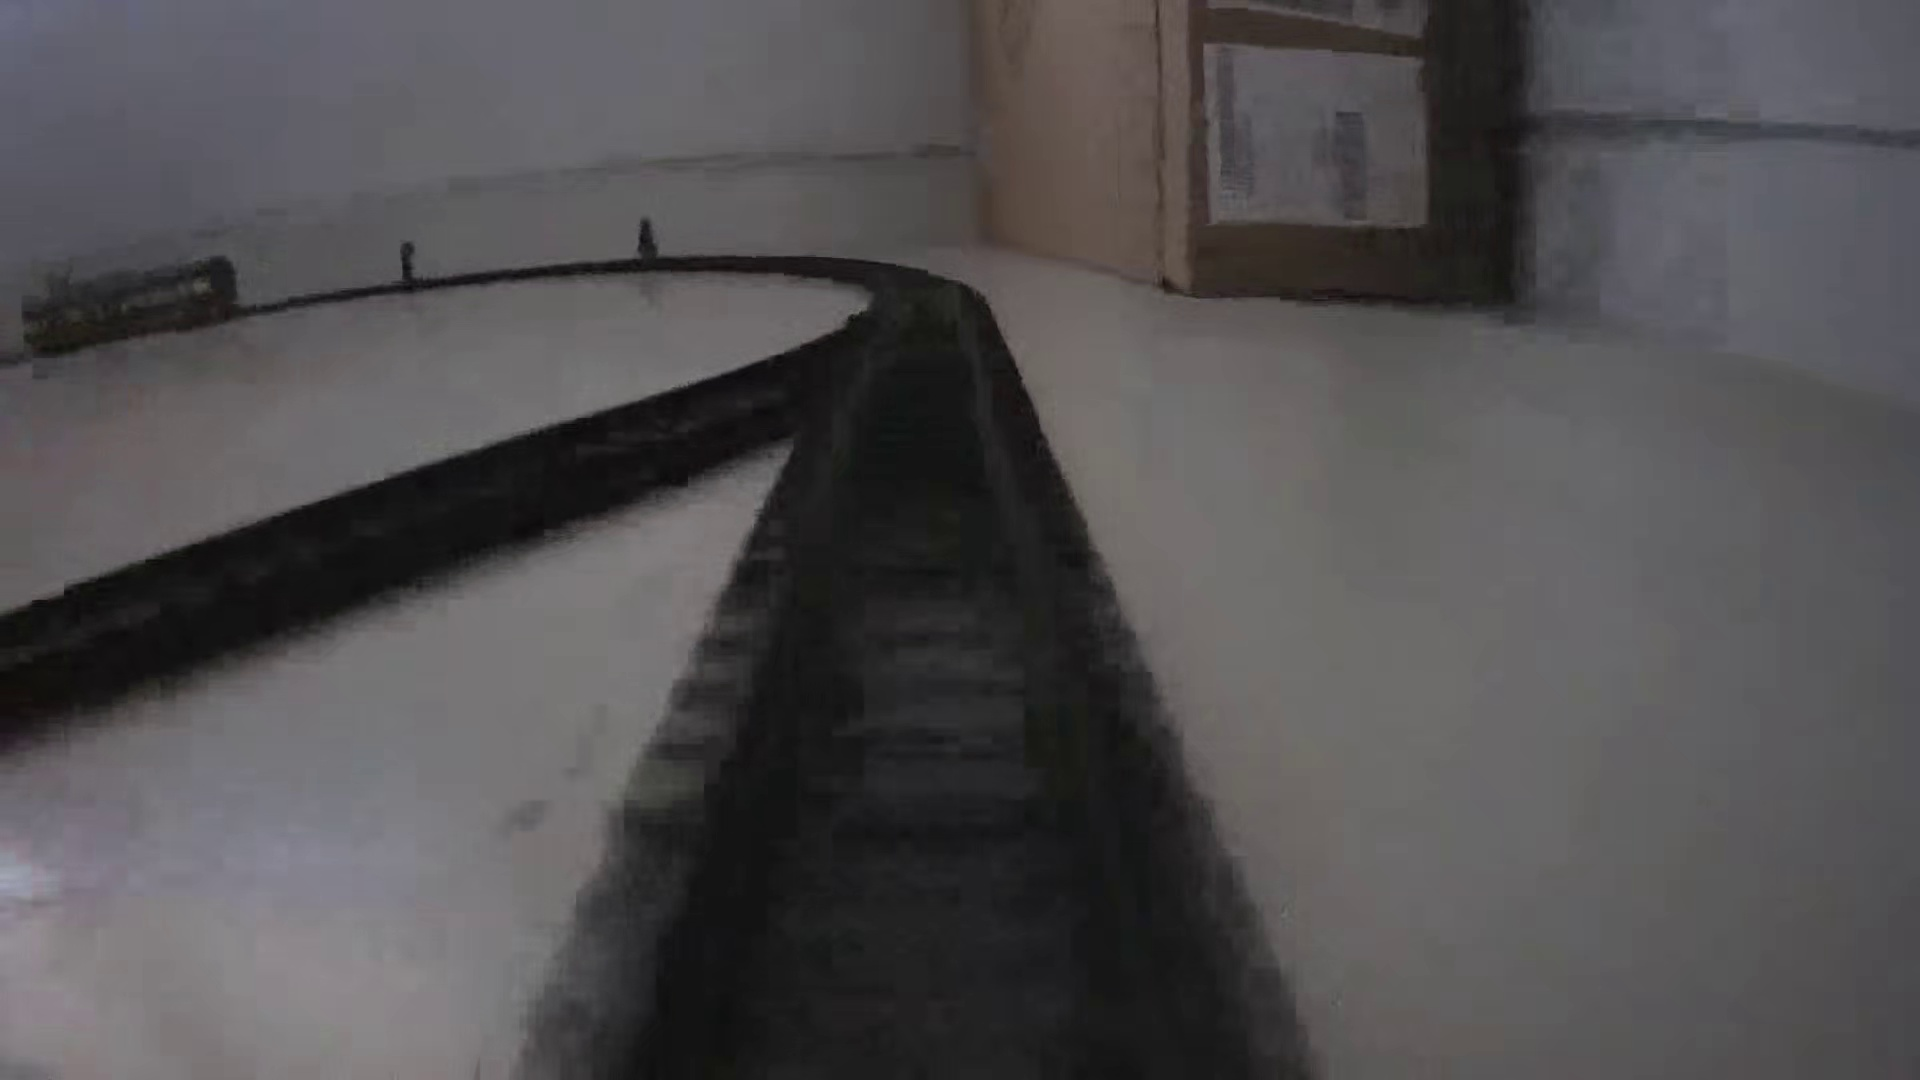people: (391, 240, 418, 289), (634, 216, 662, 262)
